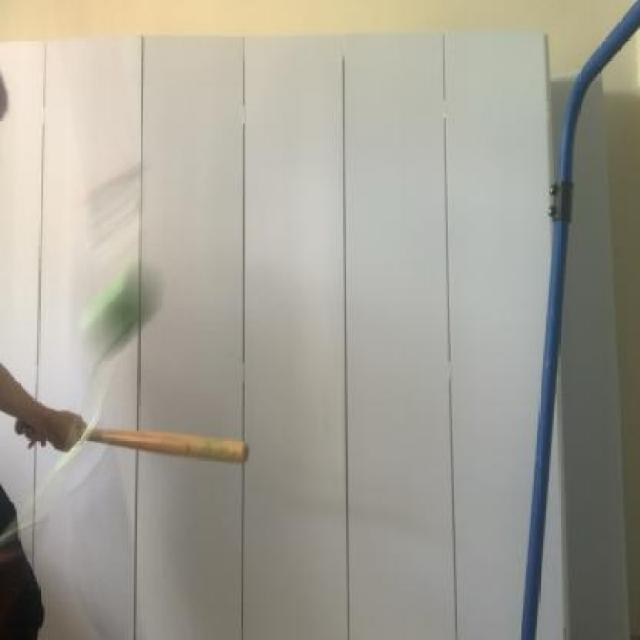baseball: (82, 248, 172, 366)
